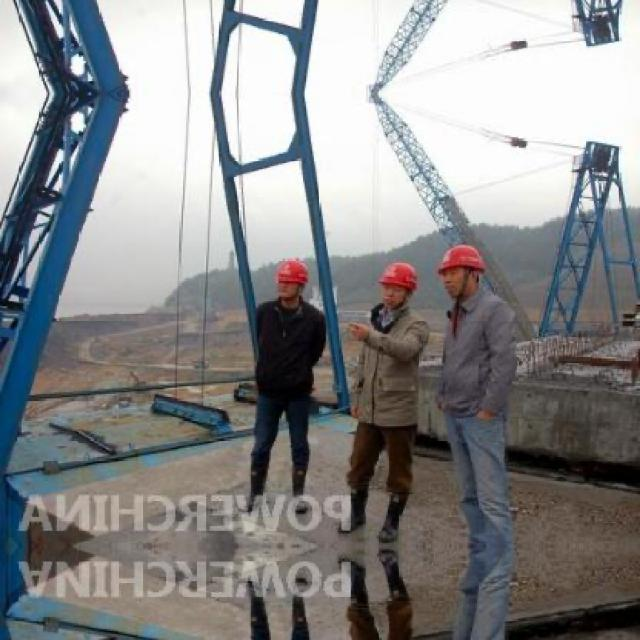helmet: (435, 240, 488, 302), (377, 258, 420, 310), (276, 260, 312, 306)
